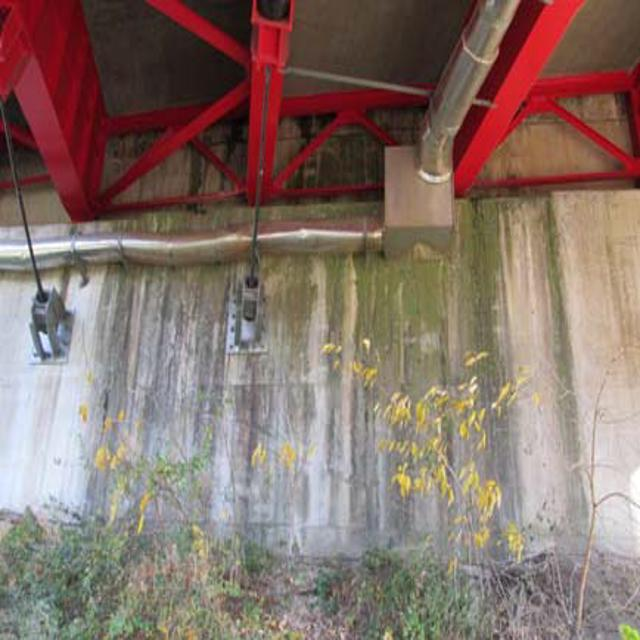leakage: (117, 211, 582, 563)
